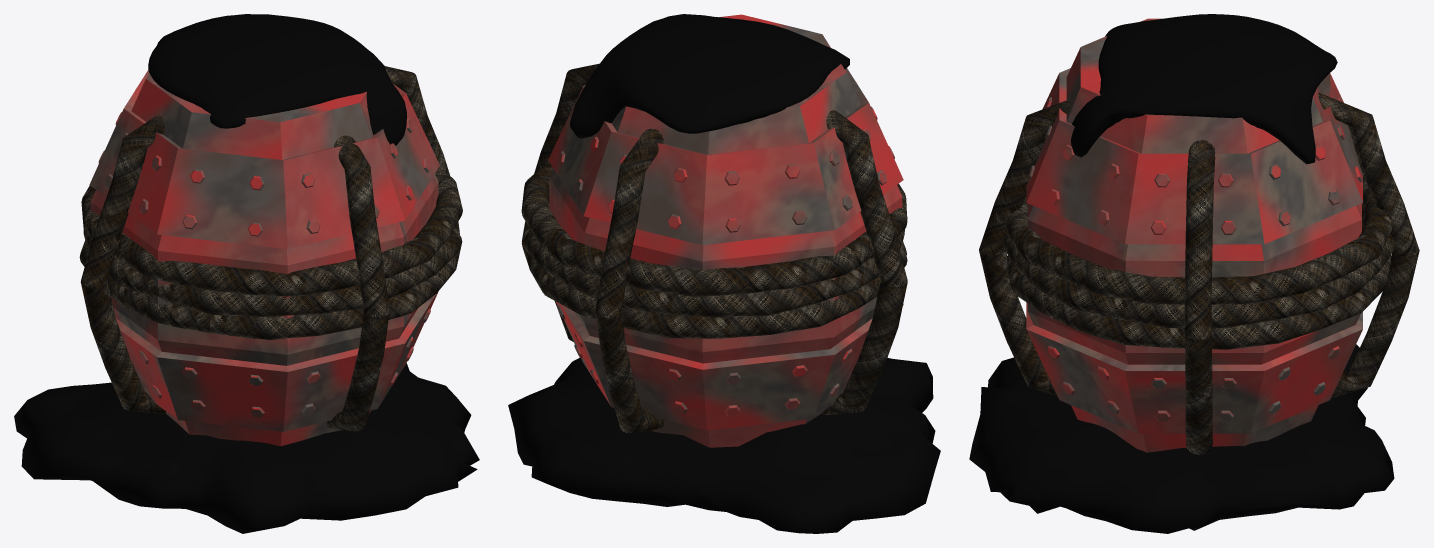
File: asphalt_bomb.fbx
3 renders of one model, left to right at view 1: azimuth 30°, elevation 25°; view 2: azimuth 150°, elevation 25°; view 3: azimuth 270°, elevation 25°, orthographic. The views are drawn at different scales.
Visible parts, largest first — view 1: Plane.005, Liquid.Asphalt.Base, Rope.001, Liquid.Asphalt.Top, Rope.002; view 2: Plane.005, Liquid.Asphalt.Base, Rope.001, Liquid.Asphalt.Top, Rope.002; view 3: Plane.005, Liquid.Asphalt.Base, Rope.001, Rope.002, Liquid.Asphalt.Top.
Part boxes in pixels (x1,y1,x2,y2): Plane.005: (89,70,439,446); Liquid.Asphalt.Base: (14,363,479,533); Rope.001: (79,167,462,339); Liquid.Asphalt.Top: (148,14,406,145); Rope.002: (80,66,449,431); Plane.005: (548,14,903,447); Liquid.Asphalt.Base: (508,357,940,533); Rope.001: (521,162,907,338); Liquid.Asphalt.Top: (570,14,849,138); Rope.002: (534,63,907,433); Plane.005: (1026,18,1362,452); Liquid.Asphalt.Base: (969,344,1394,533); Rope.001: (1003,174,1395,349); Rope.002: (979,92,1419,454); Liquid.Asphalt.Top: (1071,14,1337,164).
Size of the model in its own units: 481 by 516 by 479.
